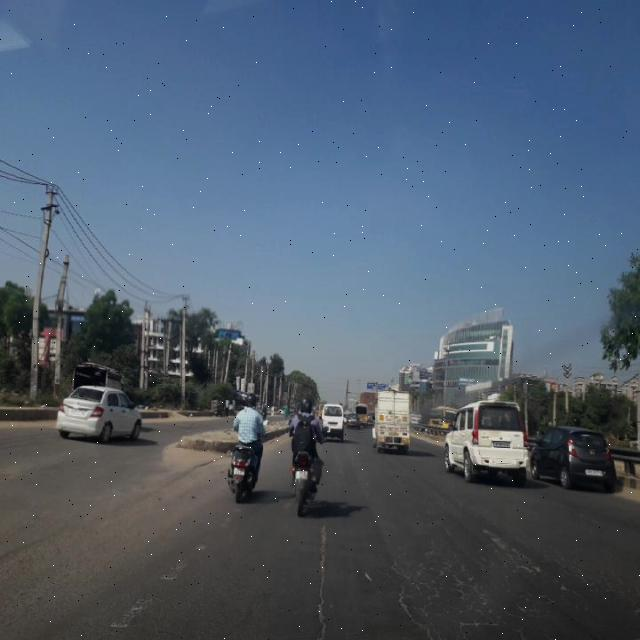D00: (305, 507, 334, 632)
D20: (374, 511, 583, 636)
D44: (99, 513, 223, 634)
